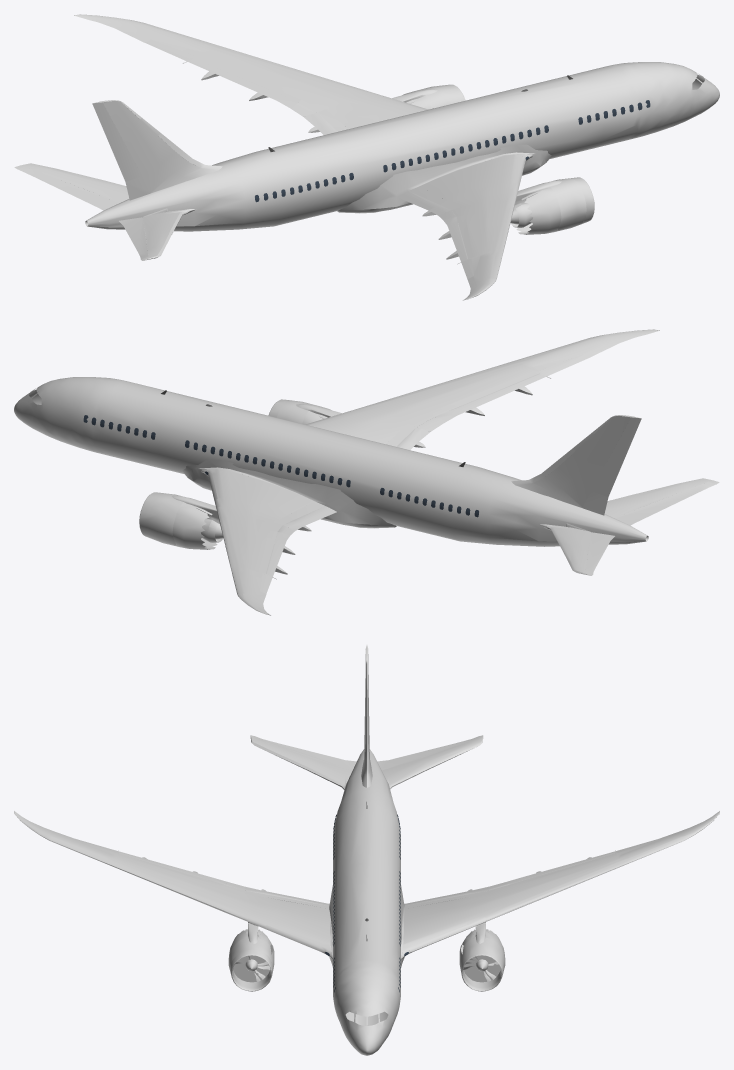
3 renders of one model, top to bottom at view 1: azimuth 30°, elevation 25°; view 2: azimuth 150°, elevation 25°; view 3: azimuth 270°, elevation 25°, orthographic. The views are drawn at different scales.
Parts seen in each view (by area): view 1: body, glass; view 2: body, glass; view 3: body.
Part boxes in pixels (left/top/right/bottom): body: left=14, top=14, right=719, bottom=300; glass: left=255, top=100, right=650, bottom=202; body: left=14, top=329, right=719, bottom=615; glass: left=83, top=415, right=478, bottom=517; body: left=14, top=645, right=719, bottom=1055.
Size of the model in its own units: 2.09 by 0.5512 by 2.2.
